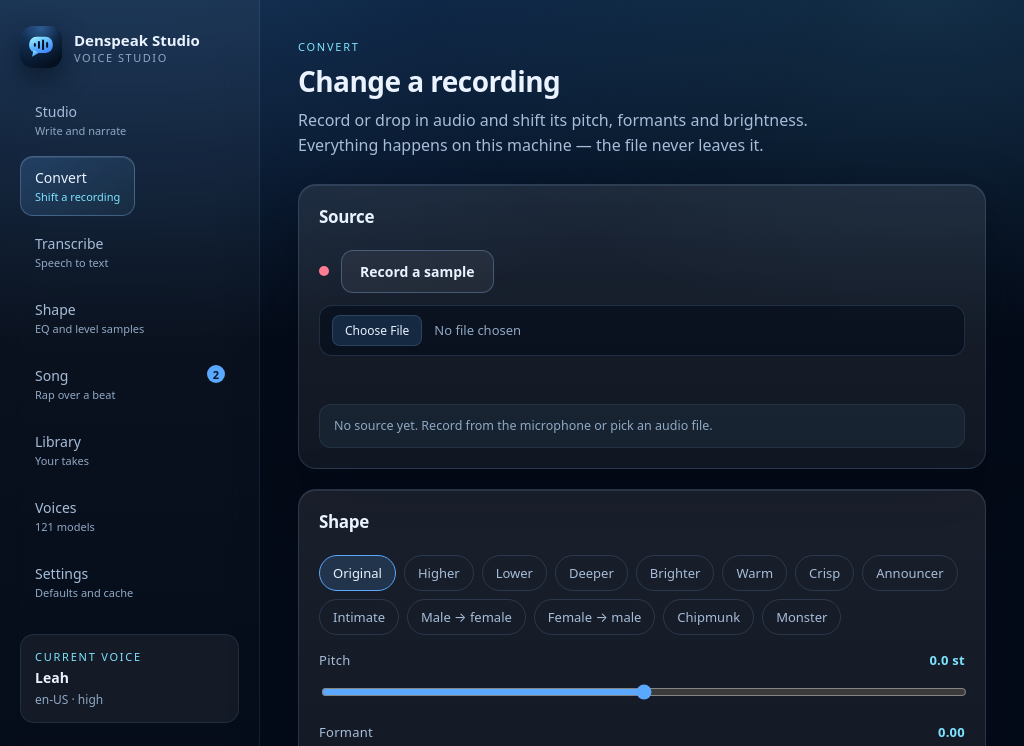
Test: hand-off navigation › keeps a take the panel could not delete, and leaves focus where the reader has it
Click the button named "2 takes waiting for Song" at (216, 374), box [207,365,225,383]
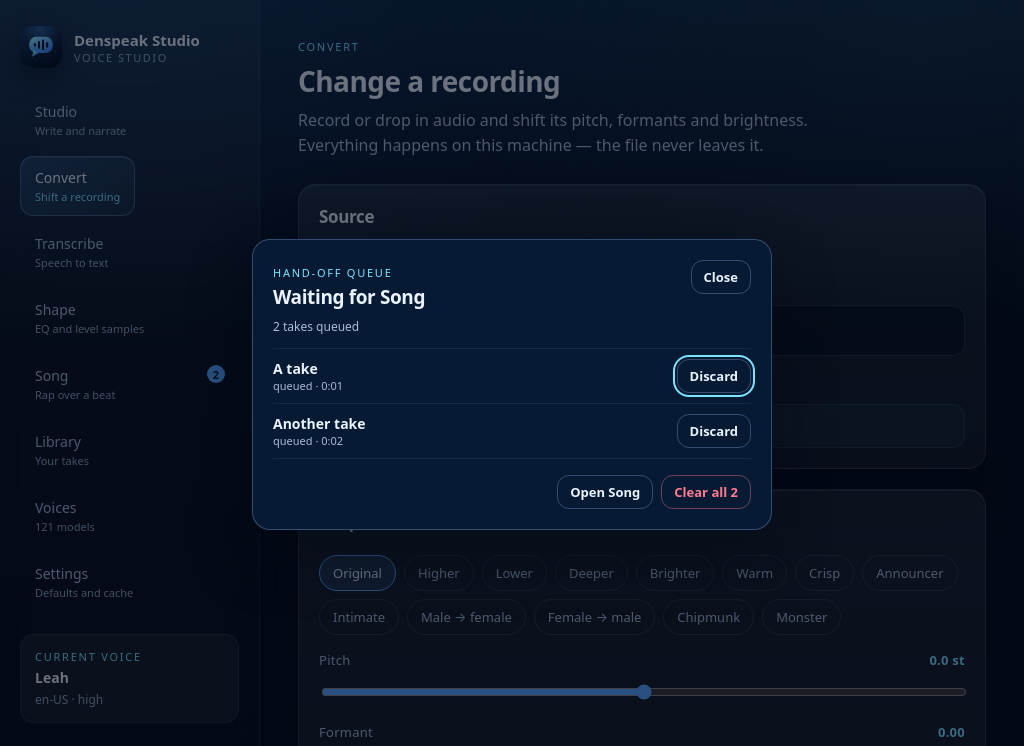
Click the button with aria-label "Discard A take" at (714, 376), box [676,358,751,392]
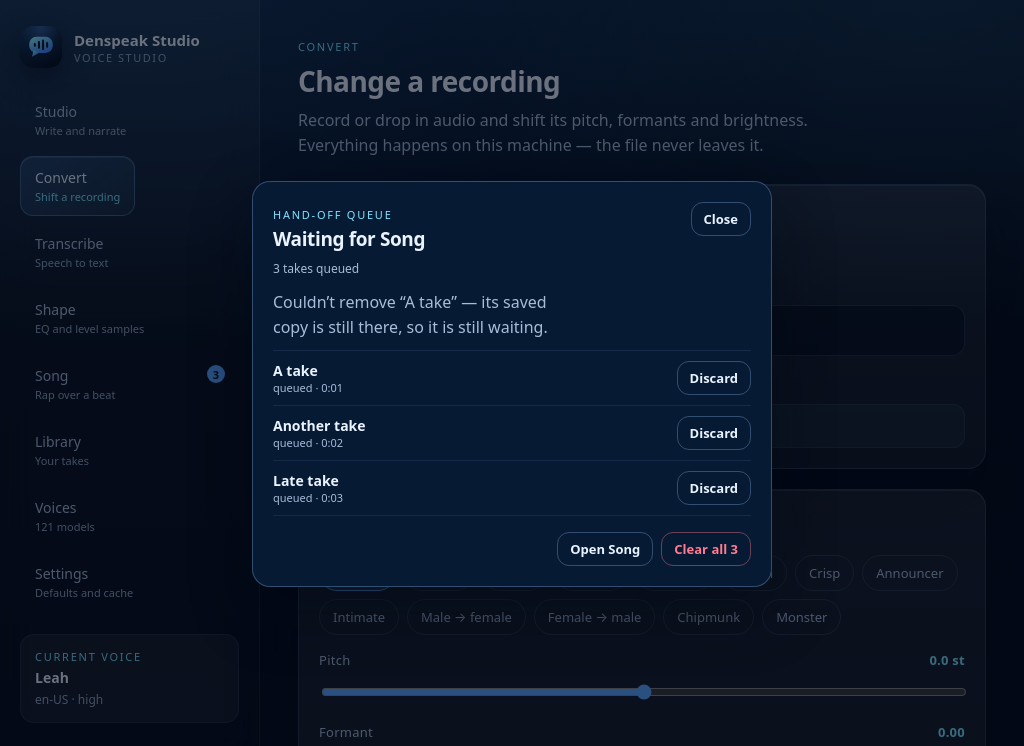
Expected: the dialog "Waiting for Song" shows "A take", [273,361,318,380]
Expected: the dialog "Waiting for Song" shows "its saved copy is still there", [273,291,548,338]
Expected: the dialog "Waiting for Song" shows "Late take", [273,471,339,490]
